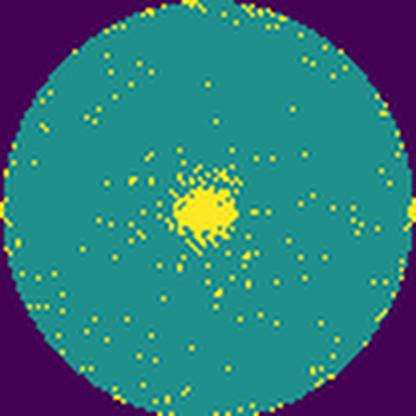Center: (174, 180, 242, 252)
